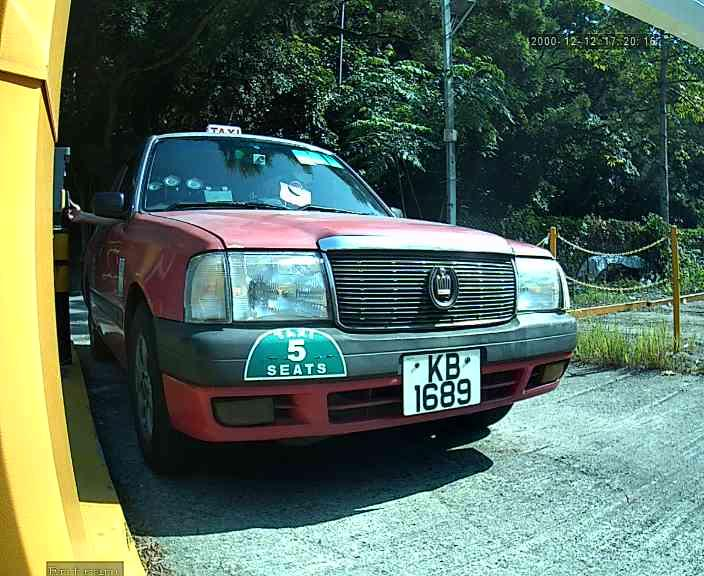Car: (51, 13, 601, 512)
License Plate: (387, 345, 491, 417)
